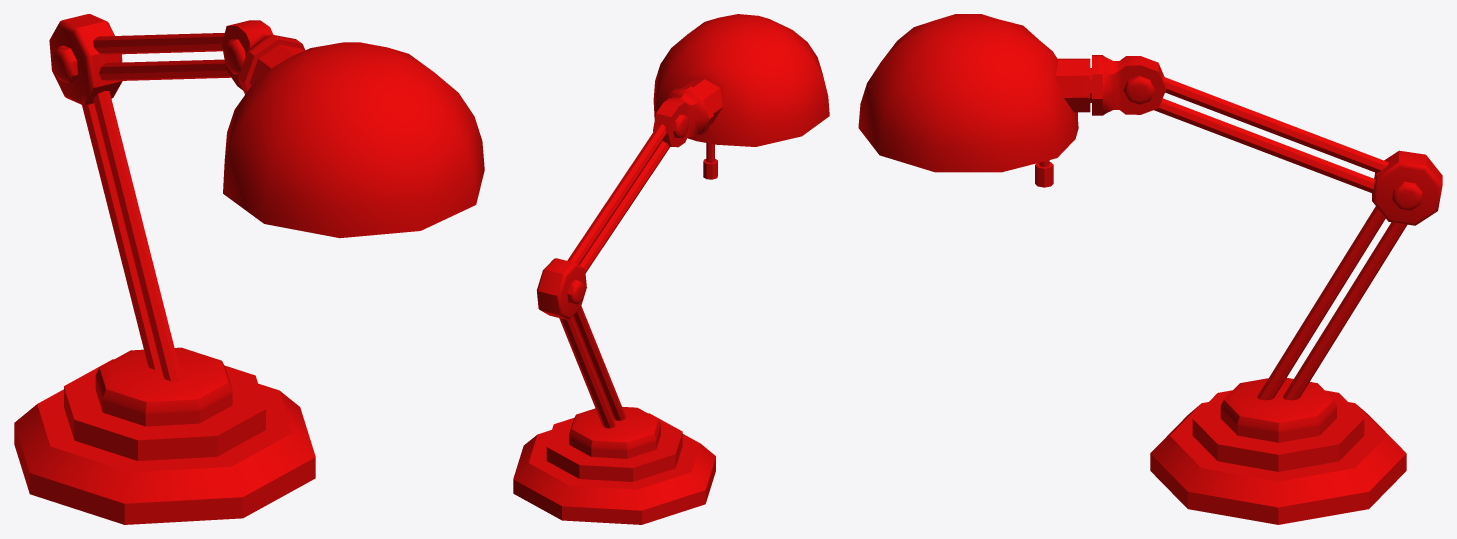
The picture shows the model from 3 angles, left to right: view 1: azimuth 30°, elevation 25°; view 2: azimuth 150°, elevation 25°; view 3: azimuth 270°, elevation 25°; orthographic projection. The views are drawn at different scales.
Parts seen in each view (by area): view 1: shade, base_2, stack_1, stacK_2, lower_arm_1, center_hinge, lower_arm_1_2, upper_arm_1, upper_arm_1_2, head_attachment, center_bolt, top_bolt; view 2: shade, base_2, stack_1, stacK_2, head_attachment, center_hinge, upper_arm_1, upper_arm_1_2, lower_arm_1_2, lower_arm_1; view 3: shade, base_2, stack_1, stacK_2, upper_arm_1, lower_arm_1, center_hinge, upper_arm_1_2, head_attachment, lower_arm_1_2, center_bolt, top_bolt.
Boxes of the visible parts, x1,y1,x2,y2 form: shade: [223, 42, 484, 238]; base_2: [14, 383, 315, 524]; stack_1: [64, 359, 265, 460]; stacK_2: [95, 347, 232, 426]; lower_arm_1: [93, 91, 182, 381]; center_hinge: [49, 14, 122, 105]; lower_arm_1_2: [82, 103, 161, 369]; upper_arm_1: [93, 32, 224, 54]; upper_arm_1_2: [99, 59, 230, 81]; head_attachment: [222, 20, 305, 94]; center_bolt: [52, 45, 77, 83]; top_bolt: [224, 39, 245, 74]; shade: [653, 14, 829, 146]; base_2: [513, 430, 715, 524]; stack_1: [546, 413, 682, 481]; stacK_2: [569, 407, 660, 458]; head_attachment: [653, 86, 713, 147]; center_hinge: [536, 258, 586, 319]; upper_arm_1: [567, 124, 665, 264]; upper_arm_1_2: [579, 141, 669, 272]; lower_arm_1_2: [559, 317, 615, 428]; lower_arm_1: [572, 306, 625, 420]; shade: [858, 14, 1090, 172]; base_2: [1150, 402, 1406, 524]; stack_1: [1192, 390, 1364, 471]; stacK_2: [1220, 378, 1336, 442]; upper_arm_1: [1162, 76, 1388, 172]; lower_arm_1: [1257, 206, 1385, 400]; center_hinge: [1372, 150, 1442, 225]; upper_arm_1_2: [1154, 98, 1374, 193]; head_attachment: [1092, 55, 1166, 115]; lower_arm_1_2: [1282, 222, 1407, 400]; center_bolt: [1392, 181, 1422, 210]; top_bolt: [1123, 76, 1154, 104].
Size of the model in its own units: 70.79 by 136 by 161.
